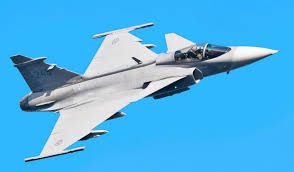fighter: (9, 20, 281, 166)
